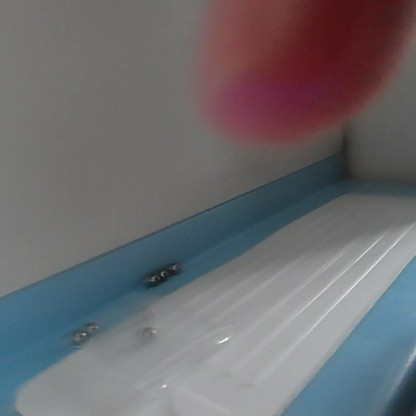ironball: (139, 325, 160, 343), (81, 317, 101, 334), (69, 328, 89, 343), (141, 275, 160, 290), (141, 304, 158, 320), (154, 265, 171, 281), (167, 257, 181, 274)
